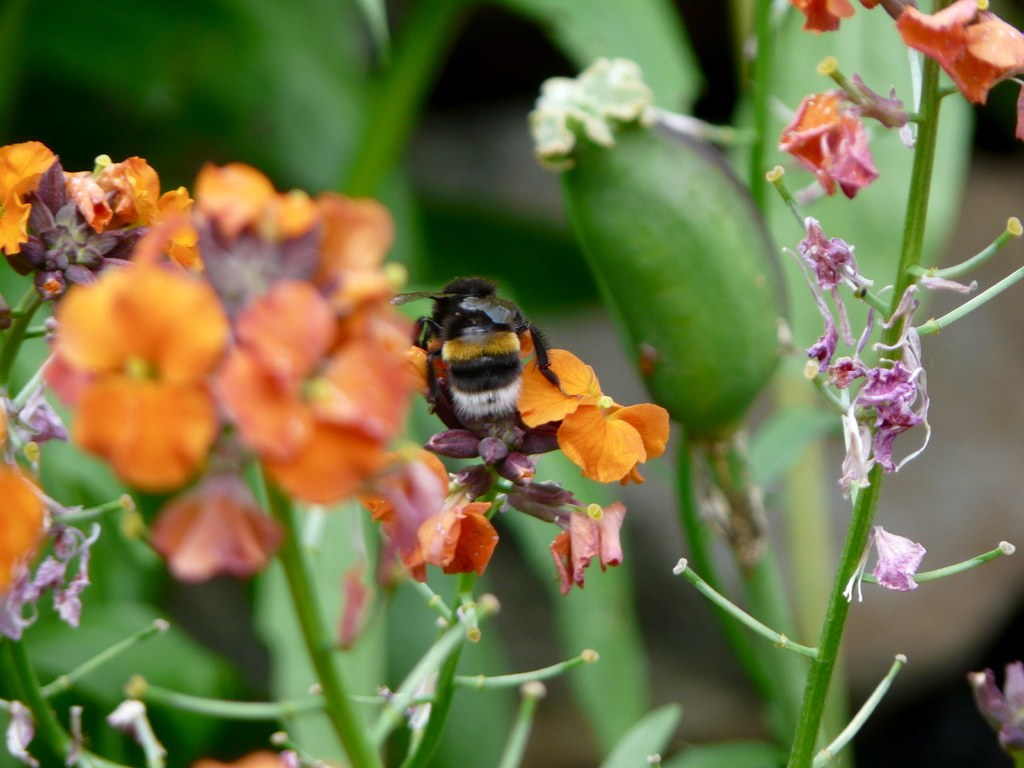bee: (387, 267, 588, 467)
insect: (0, 0, 1023, 767), (779, 65, 901, 201)
